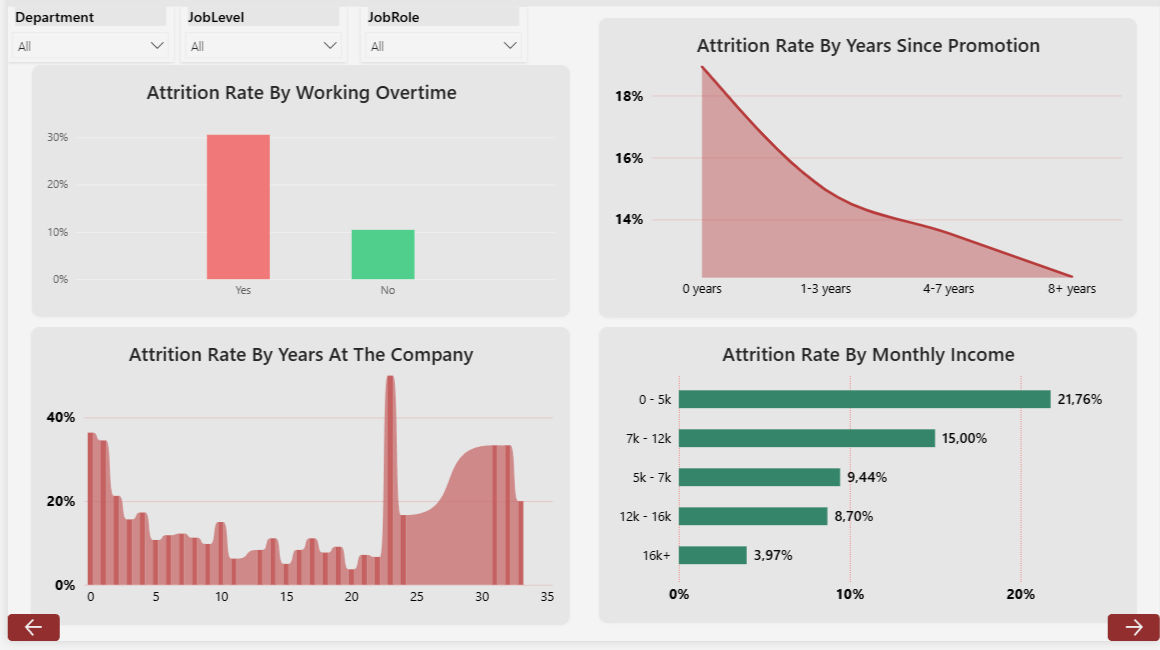

Layout of this report page (visuals, bound fields, positions):
{"tool":"powerbi","page":{"name":"Ternure & Growth","canvas":[1280,720],"ordinal":2},"visuals":[{"type":"columnChart","title":"Attrition Rate By Working Overtime","fields":{"Category":["HR-Employee-Attrition.OverTime"],"Y":["HR-Employee-Attrition.Attrition Rate"]},"box":[26.2,80,597.5,280],"z":0},{"type":"areaChart","title":"Attrition Rate By Years Since Promotion","fields":{"Category":["HR-Employee-Attrition.PromotionGroup"],"Y":["HR-Employee-Attrition.Attrition Rate"]},"box":[656.2,27.5,597.5,332.5],"z":1000},{"type":"ribbonChart","title":"Attrition Rate By Years At The Company","fields":{"Category":["HR-Employee-Attrition.YearsAtCompany"],"Y":["HR-Employee-Attrition.Attrition Rate"]},"box":[25.7,371.4,598.6,331.4],"z":2000},{"type":"shape","box":[0,0,1280,15],"z":3000},{"type":"clusteredBarChart","title":"Attrition Rate By Monthly Income","fields":{"Category":["HR-Employee-Attrition.Income Group"],"Y":["HR-Employee-Attrition.Attrition Rate"]},"box":[656.2,371.2,597.5,328.8],"z":4000},{"type":"slicer","fields":{"Values":["HR-Employee-Attrition.JobLevel"]},"box":[192.5,15,183.8,61.2],"z":5000},{"type":"slicer","fields":{"Values":["HR-Employee-Attrition.Department"]},"box":[0,15,183.8,61.2],"z":6000},{"type":"slicer","fields":{"Values":["HR-Employee-Attrition.JobRole"]},"box":[392.5,15,183.8,61.2],"z":7000},{"type":"actionButton","box":[0,690,57.8,30],"z":8000},{"type":"actionButton","box":[1222.2,690,57.8,30],"z":9000}]}

Visuals, with their boxes in screenshot pixels (x1, y1, x2, y2), scaled from the page's 1280x720 canvas onto the 1160x650 screenshot:
"Attrition Rate By Working Overtime" columnChart: [24, 72, 565, 325]
"Attrition Rate By Years Since Promotion" areaChart: [595, 25, 1136, 325]
"Attrition Rate By Years At The Company" ribbonChart: [23, 335, 566, 634]
shape: [0, 0, 1159, 14]
"Attrition Rate By Monthly Income" clusteredBarChart: [595, 335, 1136, 632]
slicer - HR-Employee-Attrition.JobLevel: [174, 14, 341, 69]
slicer - HR-Employee-Attrition.Department: [0, 14, 167, 69]
slicer - HR-Employee-Attrition.JobRole: [356, 14, 522, 69]
actionButton: [0, 623, 52, 649]
actionButton: [1108, 623, 1159, 649]
